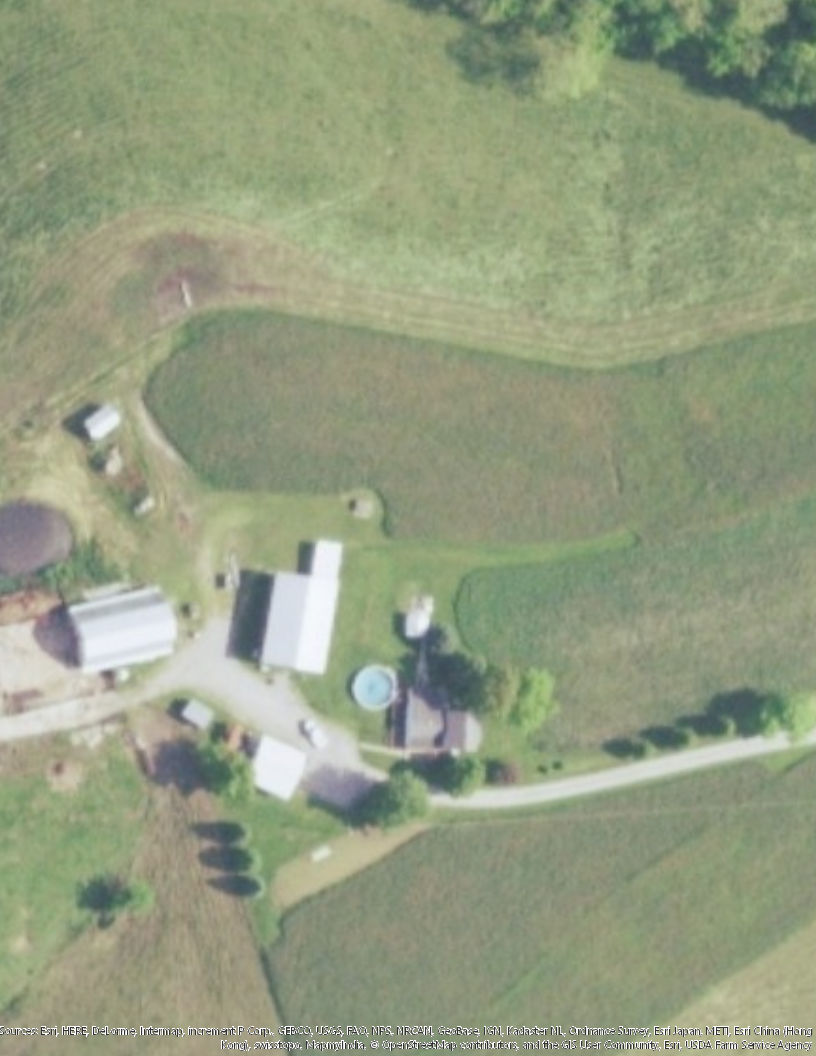cafo: (257, 528, 353, 682), (59, 578, 191, 675)
